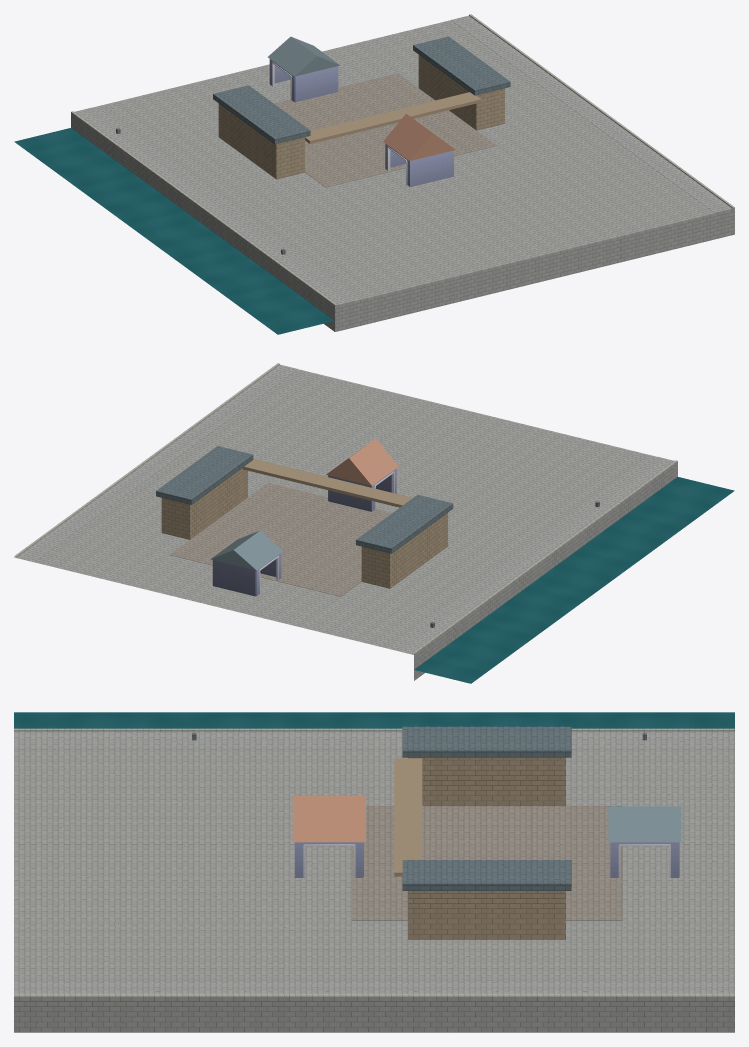
The model's file is canal-1-2.glb.
3 views of the same model, one above another, from view 1: azimuth 30°, elevation 25°; view 2: azimuth 150°, elevation 25°; view 3: azimuth 270°, elevation 25° (orthographic). The views are drawn at different scales.
Visible parts, largest first — view 1: canal-1-2; view 2: canal-1-2; view 3: canal-1-2.
Part boxes in pixels (left/top/right/bottom): canal-1-2: left=14, top=14, right=734, bottom=334; canal-1-2: left=14, top=363, right=734, bottom=683; canal-1-2: left=14, top=712, right=734, bottom=1032.
Size of the model in its own units: 128 by 20.2 by 128.
23 materials, 23 textured.
